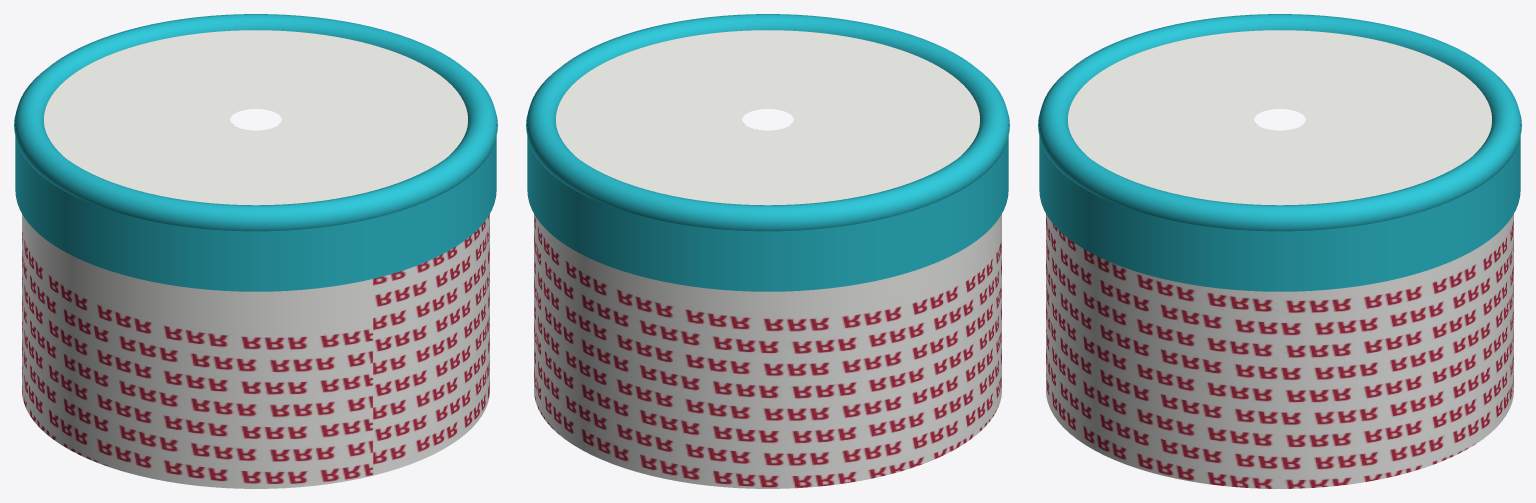
The picture shows the model from 3 angles, left to right: view 1: azimuth 30°, elevation 25°; view 2: azimuth 150°, elevation 25°; view 3: azimuth 270°, elevation 25°; orthographic projection.
Parts seen in each view (by area): view 1: X100-H114; view 2: X100-H114; view 3: X100-H114.
Part boxes in pixels (x1,y1,x2,y2): X100-H114: [14, 14, 497, 488]; X100-H114: [526, 14, 1009, 488]; X100-H114: [1038, 14, 1521, 488].
Bounding box in the file's own units: 0.185 × 0.1177 × 0.185.
6 materials, 1 textured.
